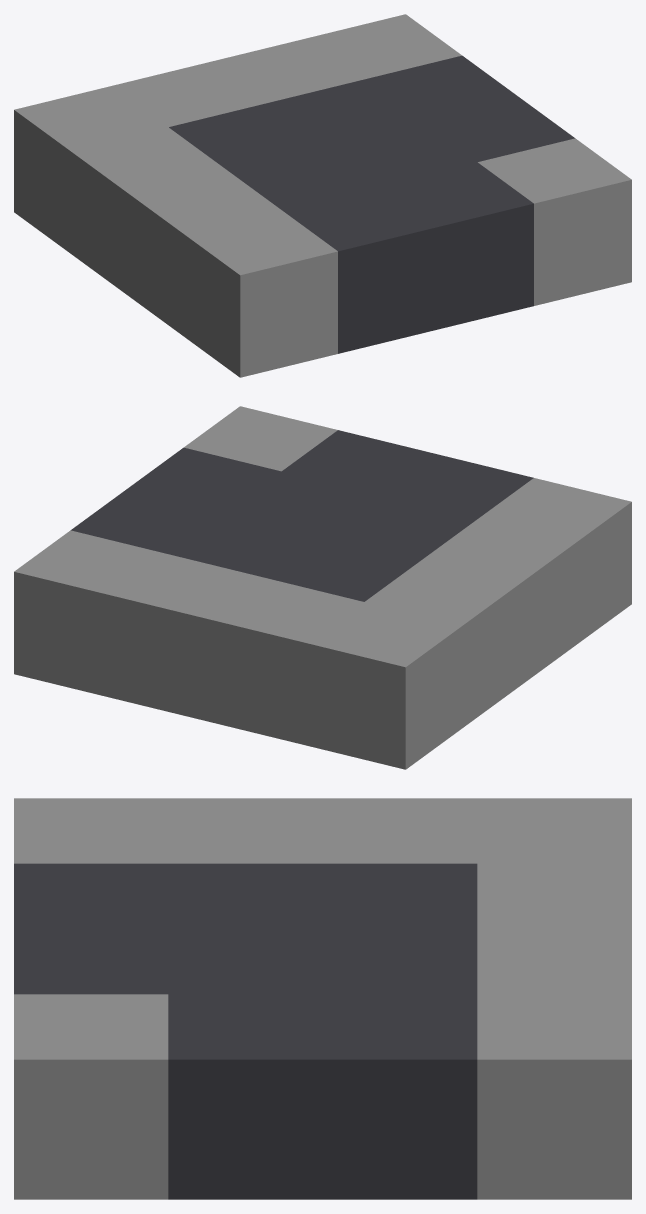
File: road_corner.glb
3 views of the same model, one above another, from view 1: azimuth 30°, elevation 25°; view 2: azimuth 150°, elevation 25°; view 3: azimuth 270°, elevation 25° (orthographic). The views are drawn at different scales.
Visible parts, largest first — view 1: road_corner; view 2: road_corner; view 3: road_corner.
Part boxes in pixels (x1,y1,x2,y2): road_corner: [14, 14, 631, 377]; road_corner: [14, 406, 631, 769]; road_corner: [14, 798, 631, 1199].
Size of the model in its own units: 1 by 0.25 by 1.
Materials: 1 (1 with a texture image).
